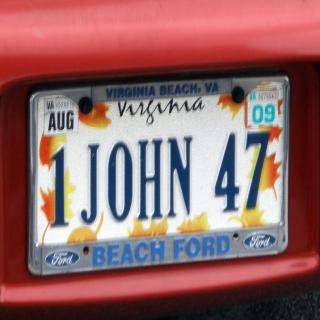license: (29, 70, 291, 277)
